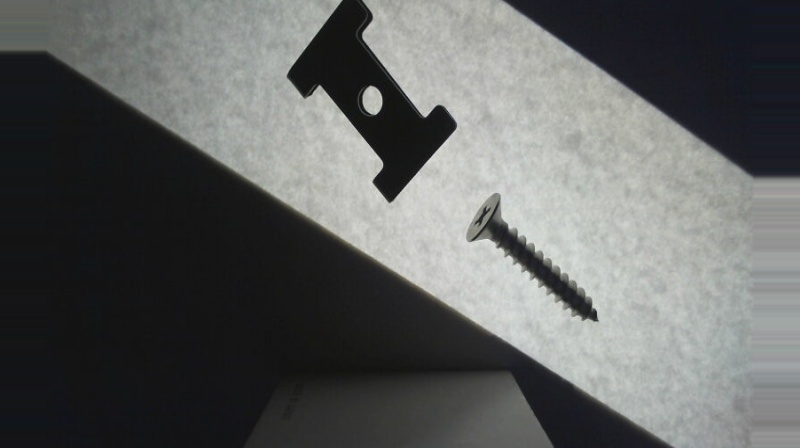O002: (284, 0, 456, 205)
S001: (463, 189, 601, 326)
